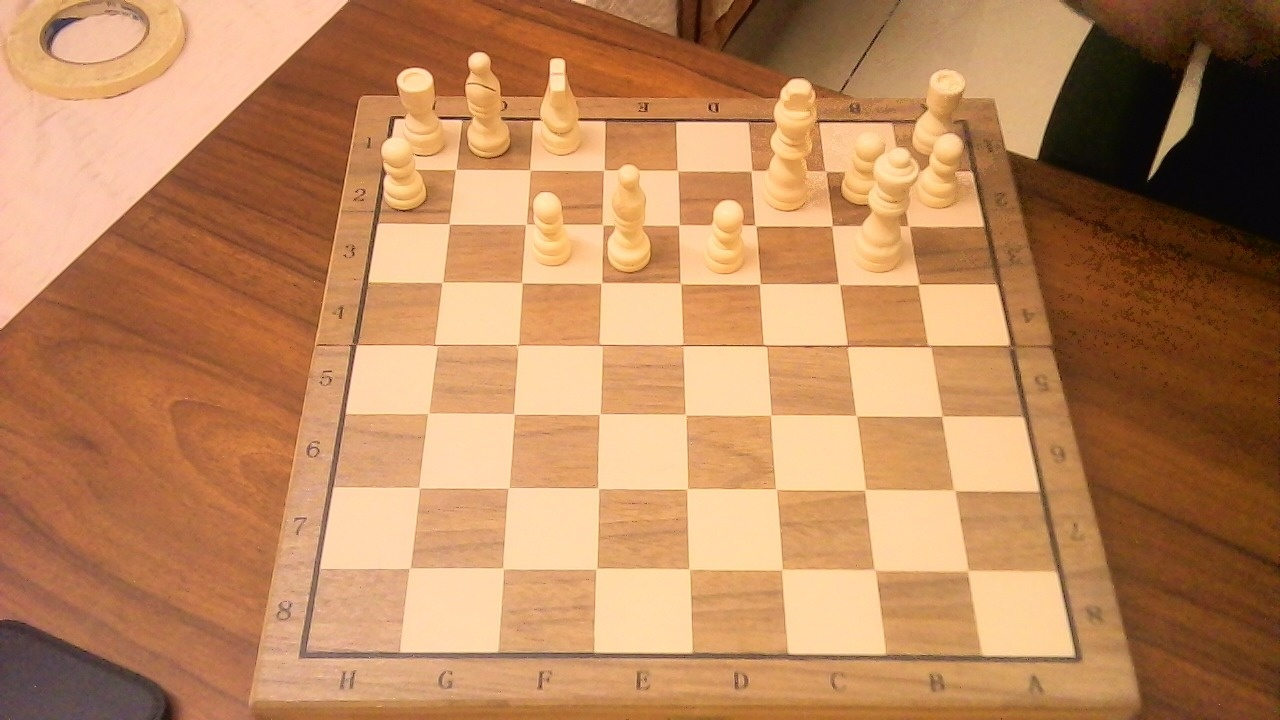B: (459, 41, 519, 161), (604, 153, 662, 276)
K: (758, 66, 826, 215)
N: (531, 47, 591, 160)
P: (835, 123, 898, 210), (694, 189, 753, 279), (525, 182, 578, 272), (377, 127, 433, 212), (920, 124, 972, 212)
Q: (845, 135, 925, 278)
R: (907, 59, 973, 161), (392, 57, 451, 160)
